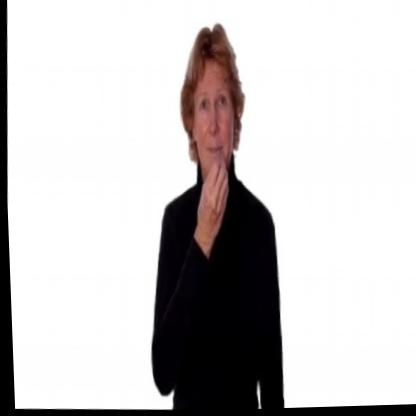Food: (173, 17, 260, 227)
